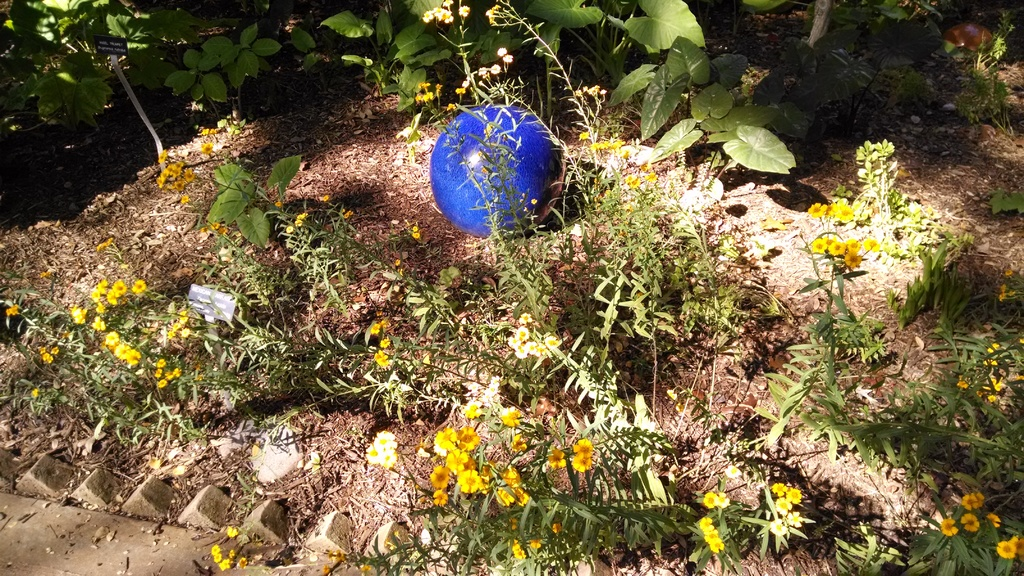Ball: (428, 102, 563, 240)
